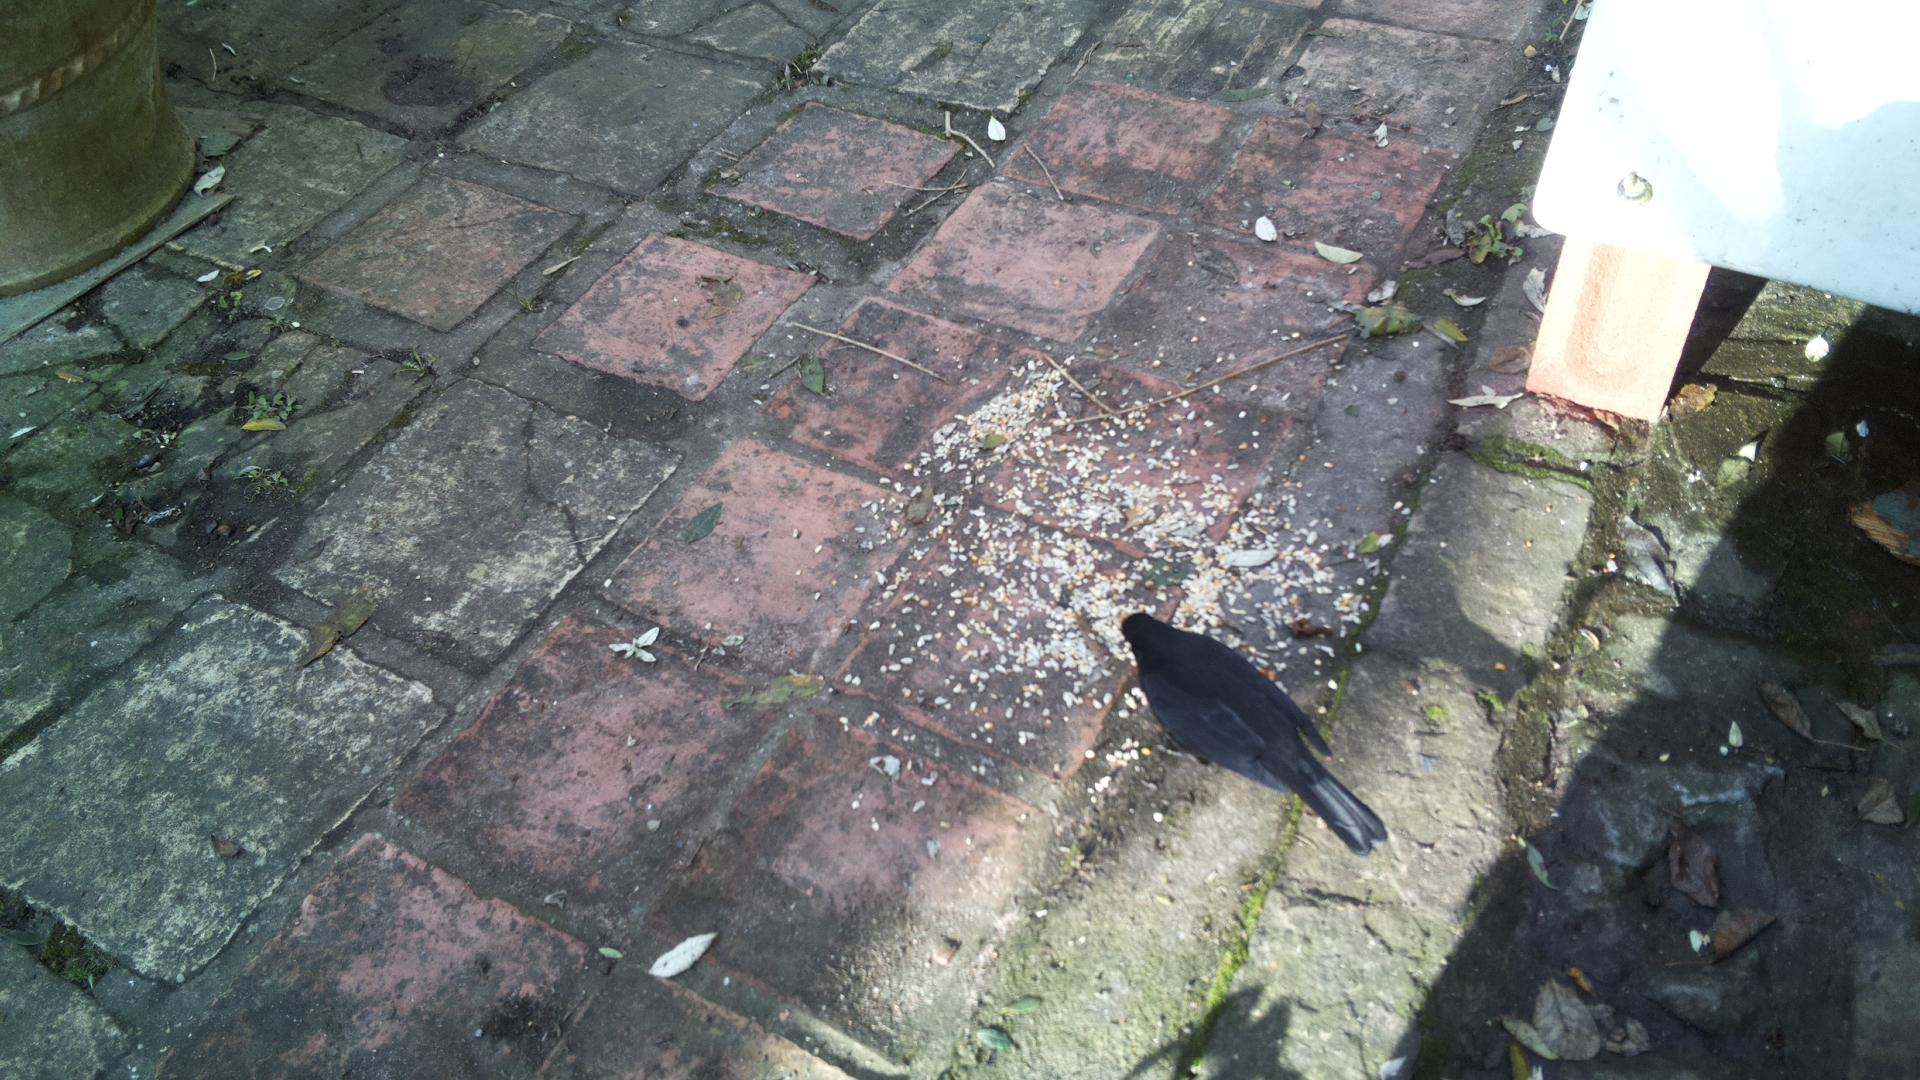blackbird: (1120, 611, 1389, 856)
